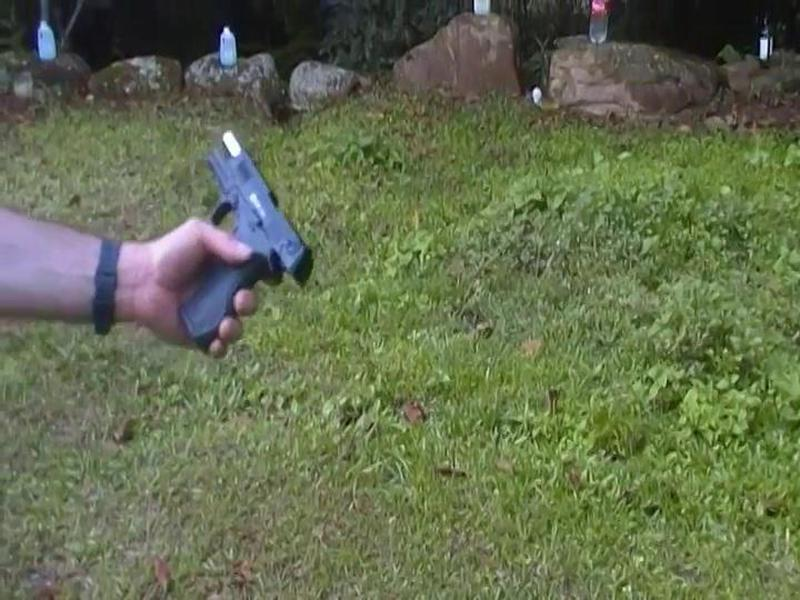Pistola: (156, 125, 324, 361)
